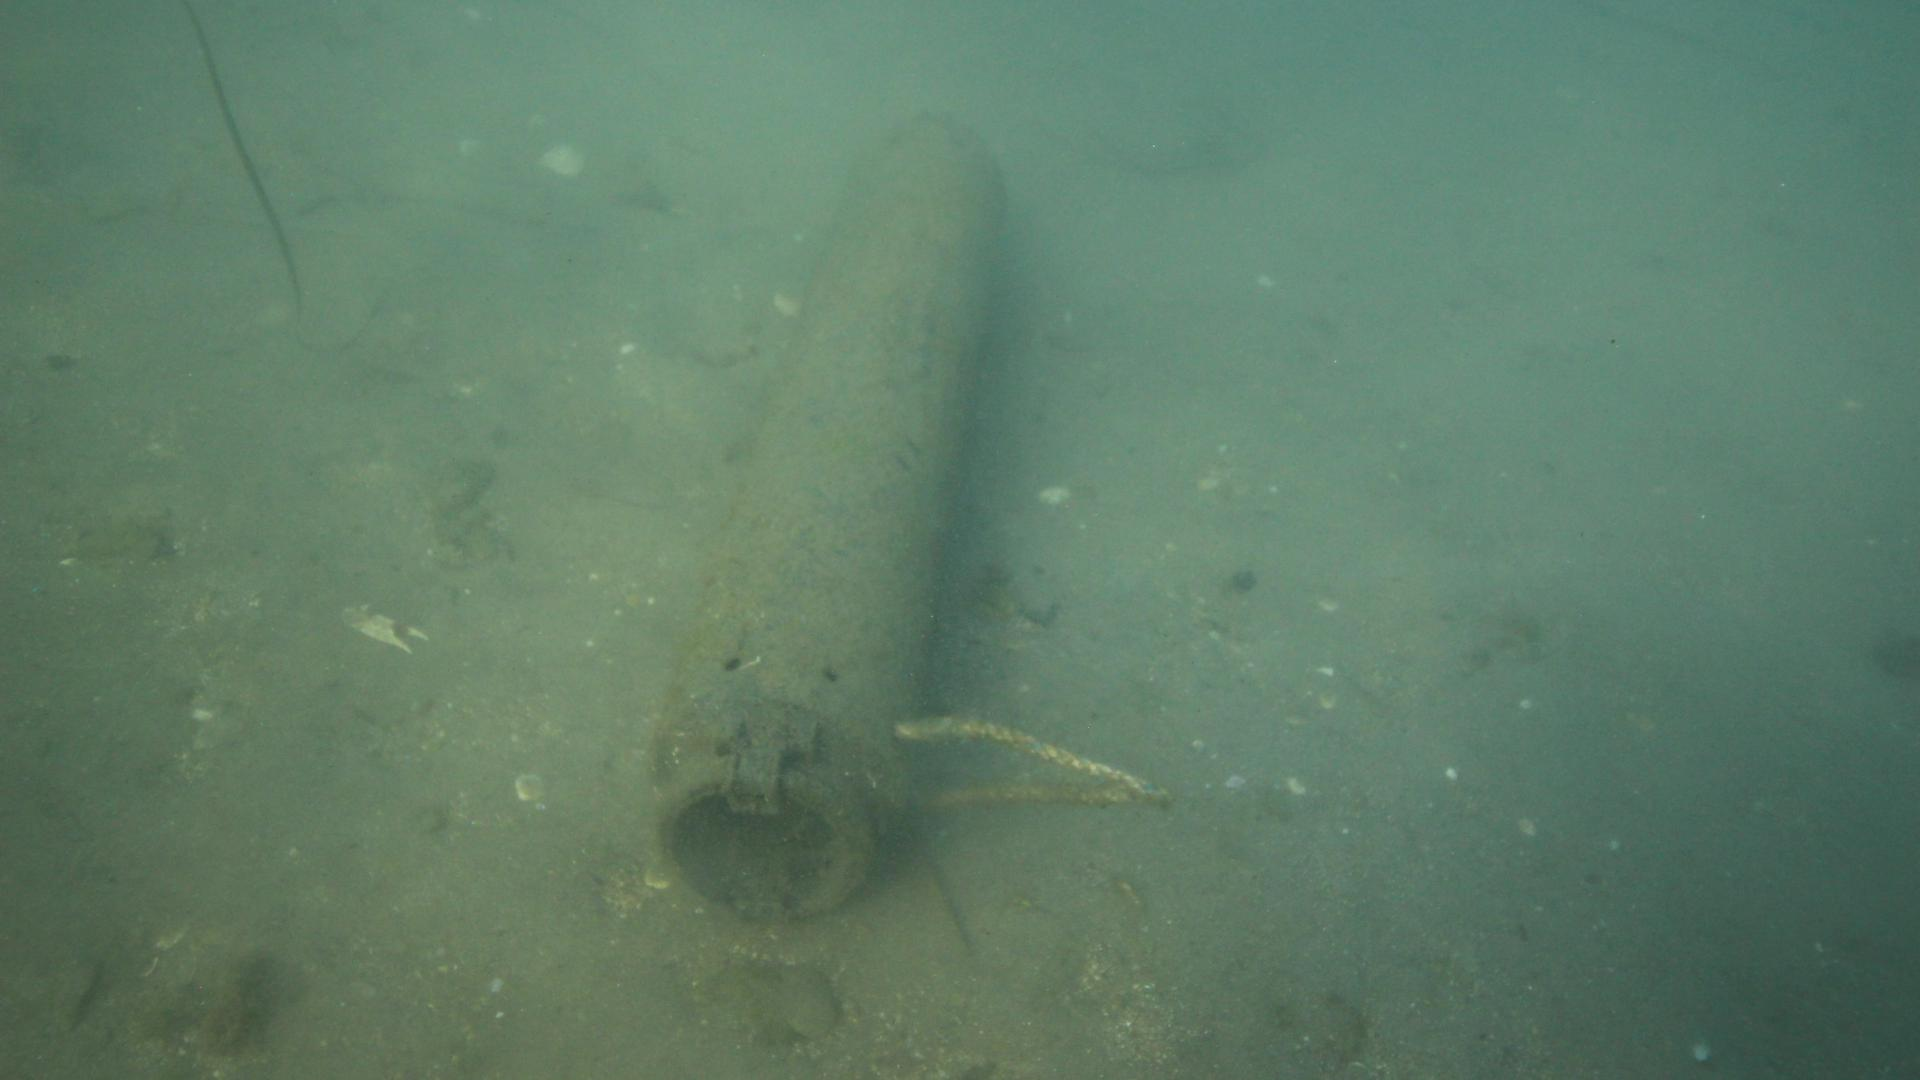eel fish trap: (649, 108, 1006, 927)
rope: (889, 715, 1175, 815)
